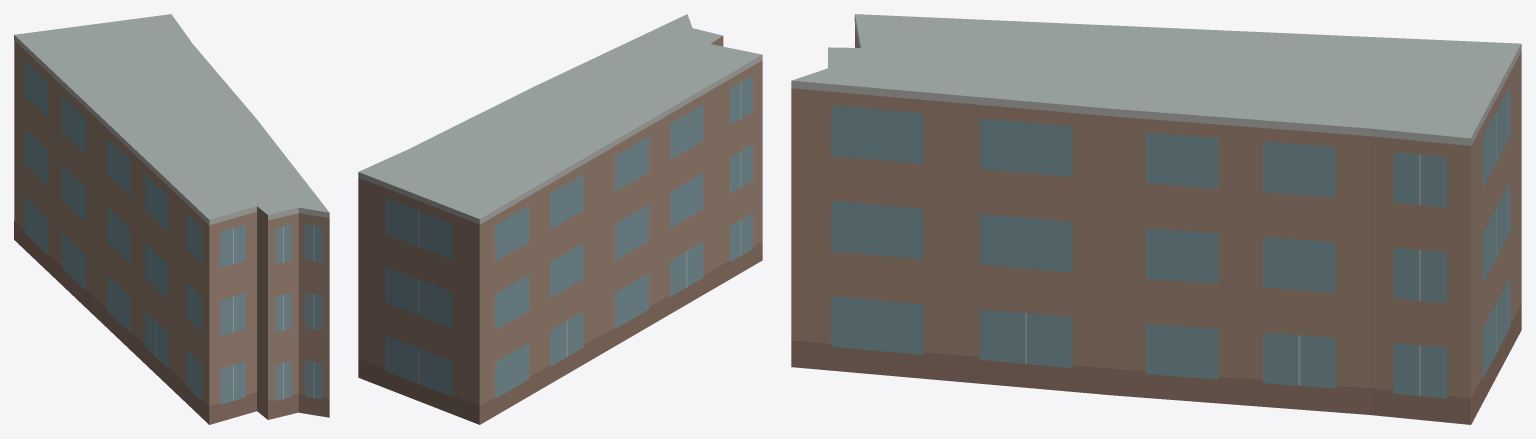
File: survey-upis-32544053.glb
The picture shows the model from 3 angles, left to right: view 1: azimuth 30°, elevation 25°; view 2: azimuth 150°, elevation 25°; view 3: azimuth 270°, elevation 25°; orthographic projection. The views are drawn at different scales.
Parts seen in each view (by area): view 1: survey-upis-32544053.tmp; view 2: survey-upis-32544053.tmp; view 3: survey-upis-32544053.tmp.
Part boxes in pixels (x1=…): survey-upis-32544053.tmp: x1=14, y1=14, x2=329, y2=424; survey-upis-32544053.tmp: x1=358, y1=14, x2=762, y2=424; survey-upis-32544053.tmp: x1=791, y1=14, x2=1521, y2=424.
Size of the model in its own units: 8.54 by 9.15 by 21.15.
